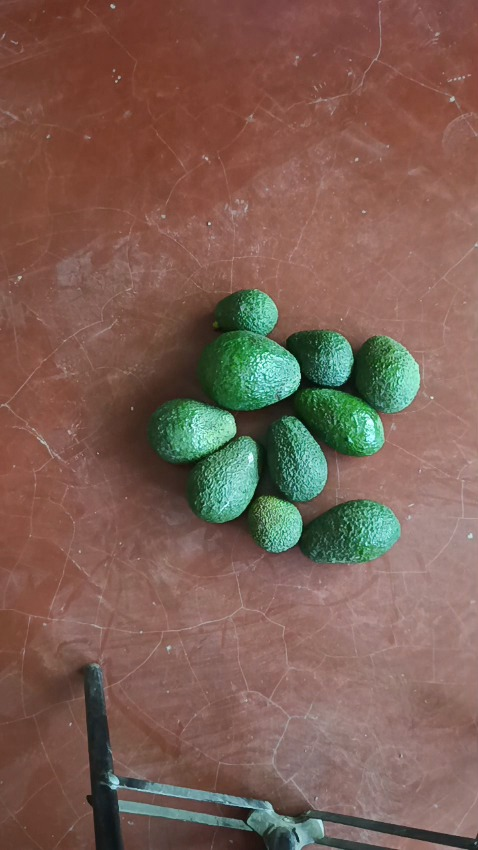Primera: (197, 331, 302, 411)
Segunda: (186, 435, 262, 522), (292, 386, 384, 457), (300, 499, 402, 563), (148, 399, 237, 464), (353, 335, 421, 413), (265, 415, 326, 501)
Tercera: (284, 329, 354, 388), (245, 494, 302, 552), (212, 289, 278, 337)
